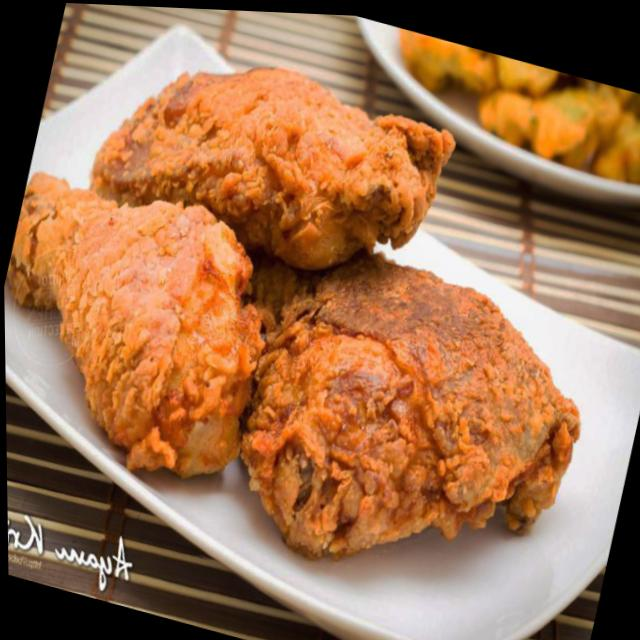fried_chicken: (220, 227, 605, 621), (87, 27, 462, 293), (2, 155, 290, 494)
